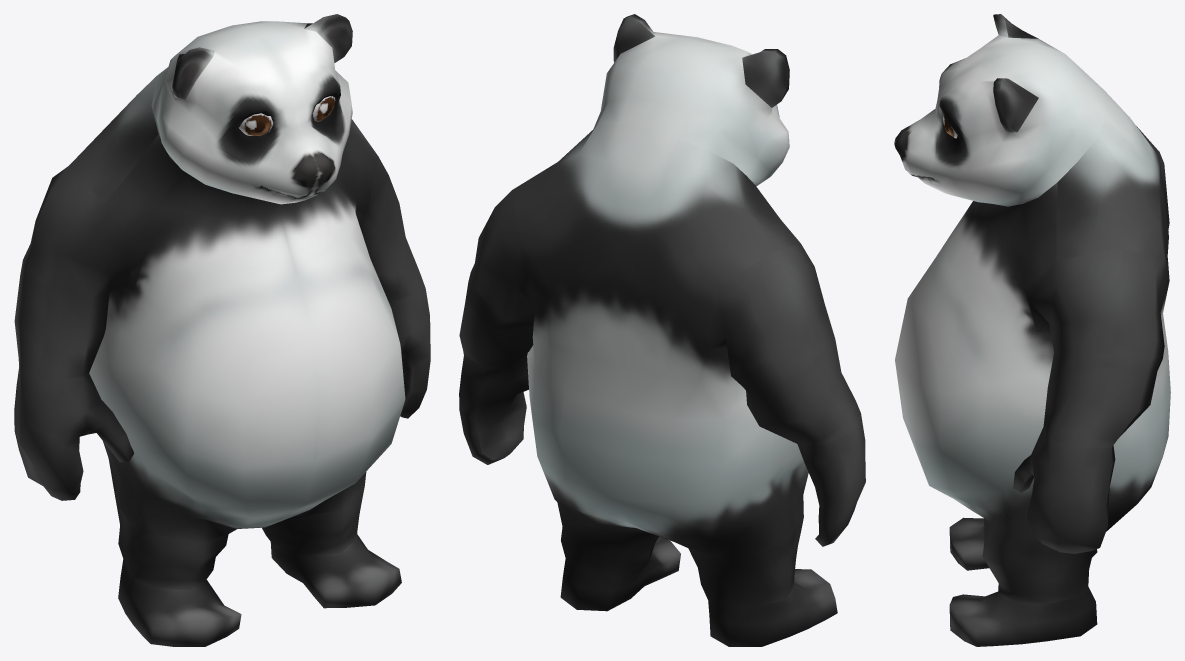
The model's file is Bear.FBX.
The picture shows the model from 3 angles, left to right: view 1: azimuth 30°, elevation 25°; view 2: azimuth 150°, elevation 25°; view 3: azimuth 270°, elevation 25°; orthographic projection. The views are drawn at different scales.
Parts seen in each view (by area): view 1: Oso; view 2: Oso; view 3: Oso.
Part boxes in pixels (x1,y1,x2,y2): Oso: (14,14,430,646); Oso: (459,14,865,646); Oso: (894,14,1170,646).
Size of the model in its own units: 132 by 83.43 by 181.
